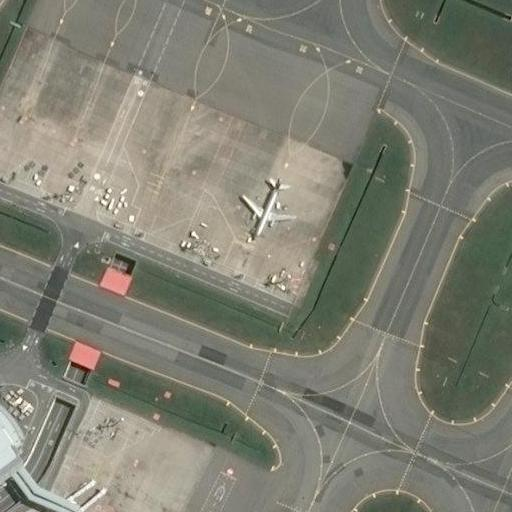Aircraft: (237, 172, 297, 240)
